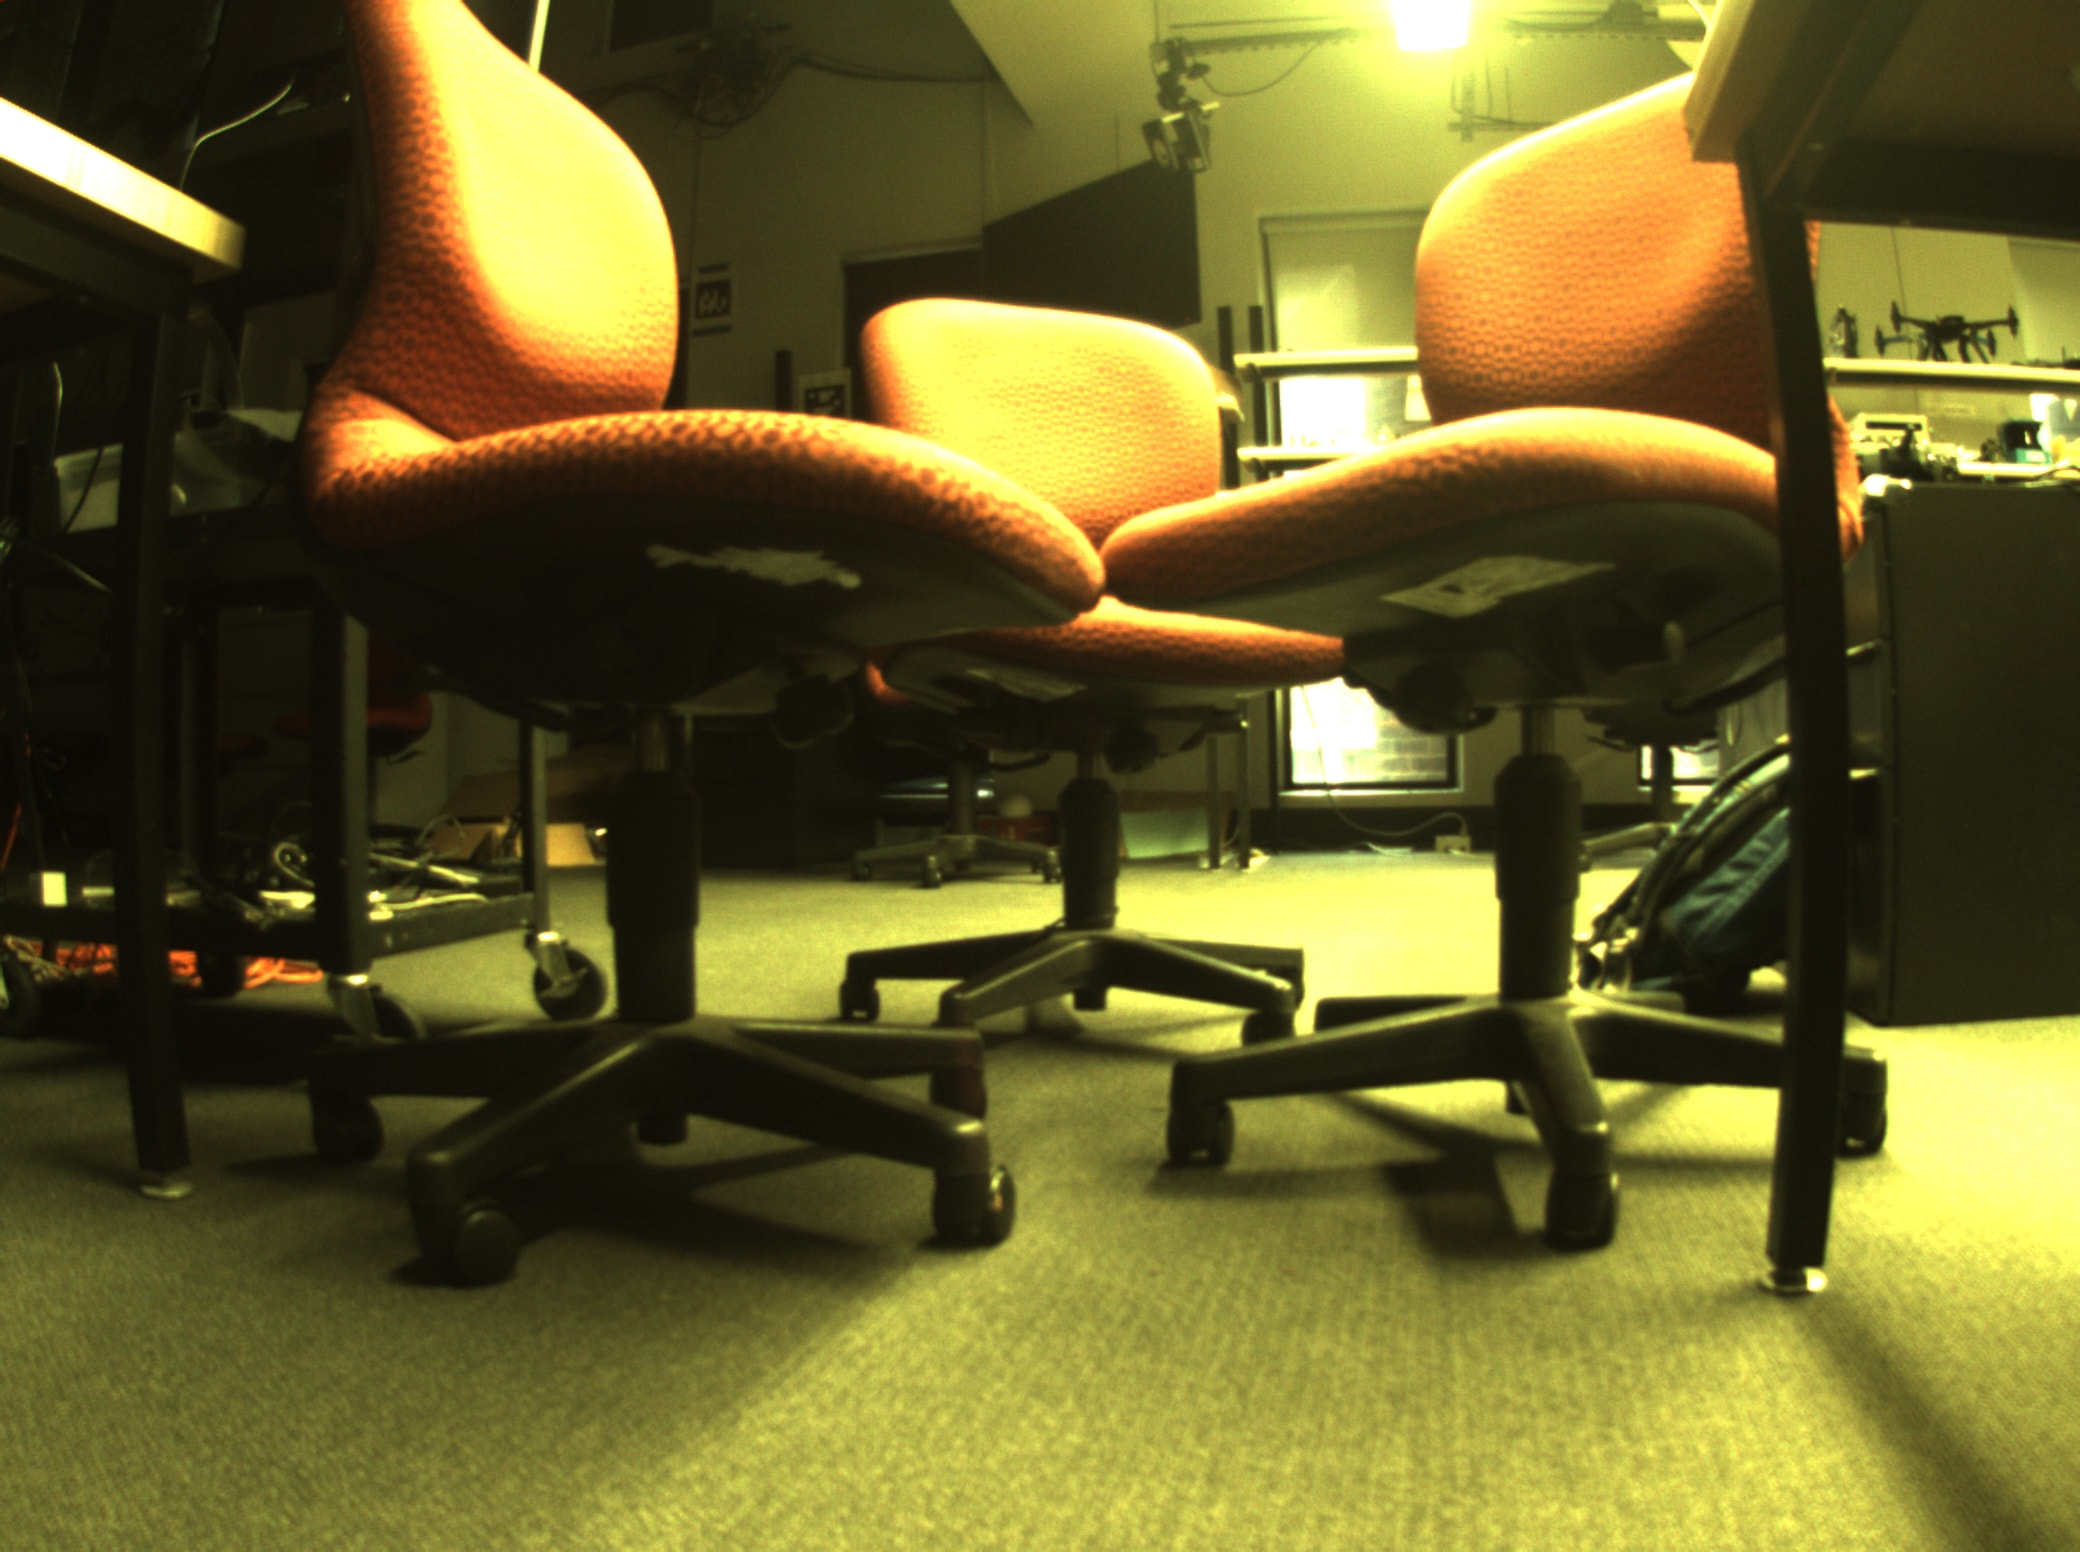chair: (290, 8, 1077, 1307), (1113, 70, 1928, 1254), (836, 243, 1346, 1081)
